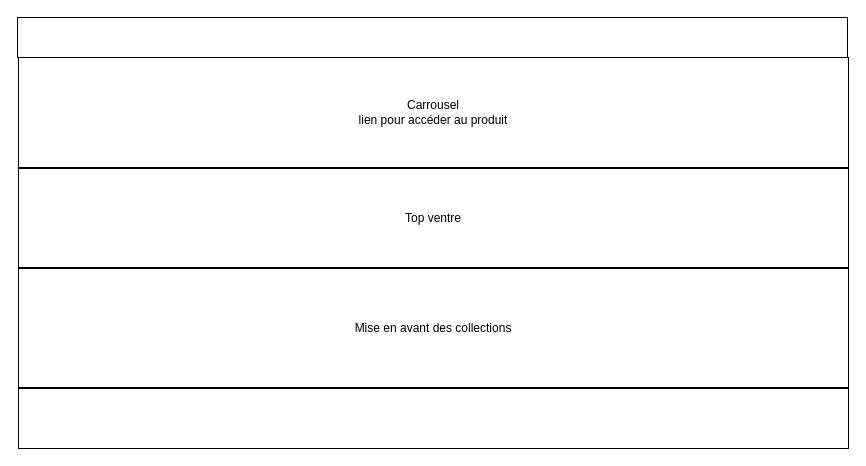
The diagram is 866 pixels wide and 466 high, and some of its shapes have lost their labels. The box of each missing label's shape, as (x1, y1, x2, y2) in pixels:
Bas de page: (18, 388, 848, 448)
Menu: (16, 16, 848, 58)
